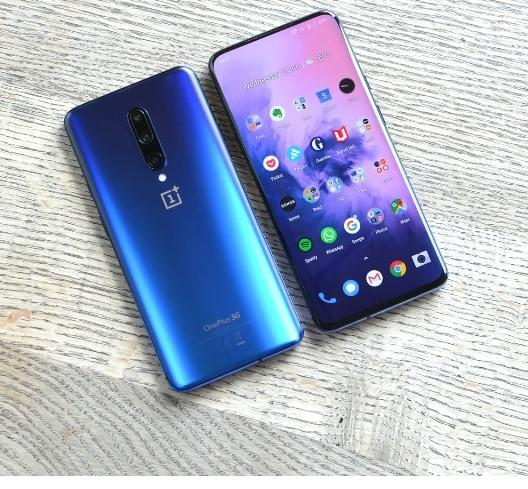Smart Phone: (63, 66, 304, 394), (208, 12, 449, 333)
